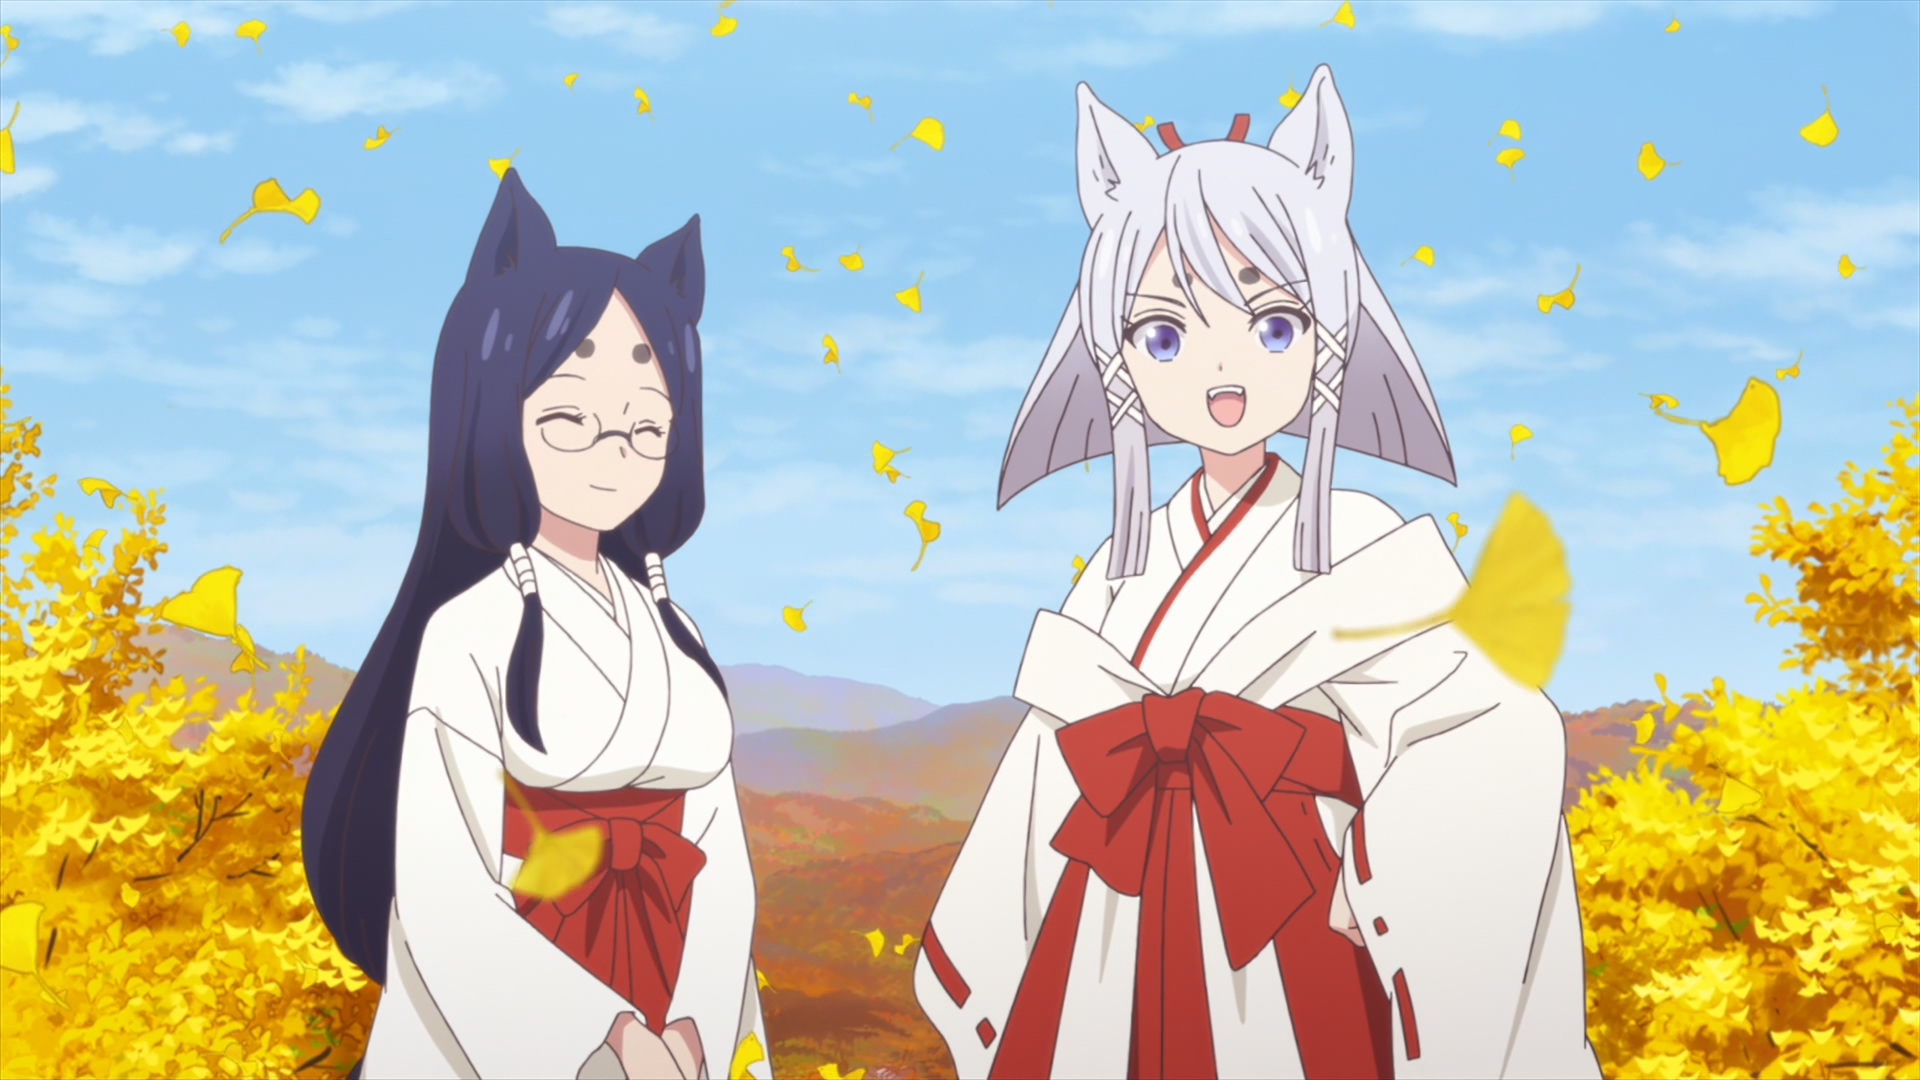柊: (911, 65, 1598, 1080)
菖: (301, 167, 771, 1080)
